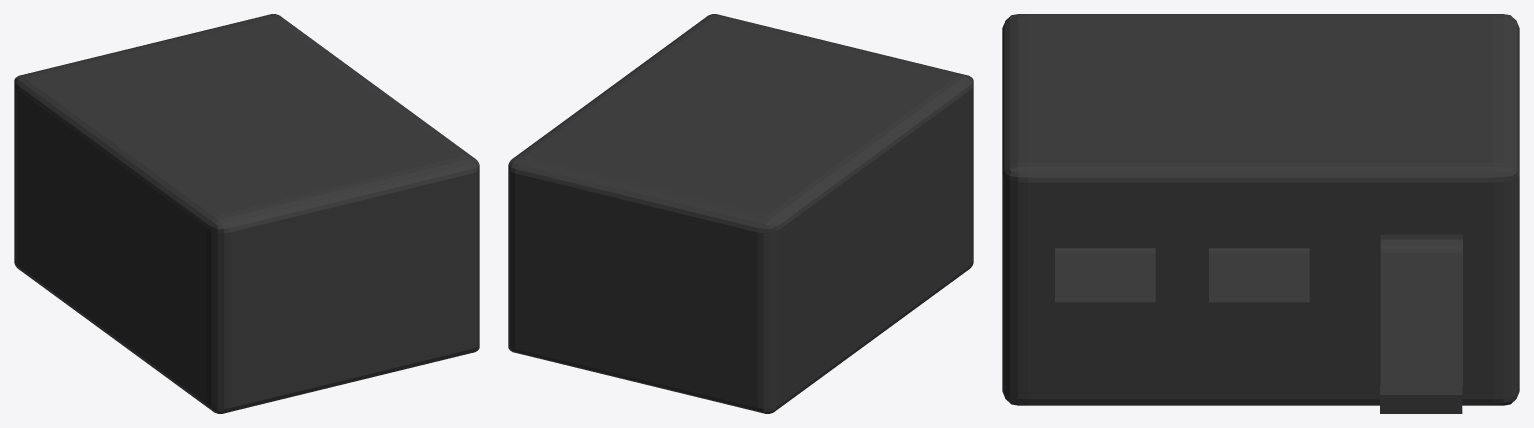
File: BunkerFull.fbx
The picture shows the model from 3 angles, left to right: view 1: azimuth 30°, elevation 25°; view 2: azimuth 150°, elevation 25°; view 3: azimuth 270°, elevation 25°; orthographic projection. The views are drawn at different scales.
Visible parts, largest first — view 1: Cube_001; view 2: Cube_001; view 3: Cube_001.
Boxes of the visible parts, x1,y1,x2,y2 form: Cube_001: (14,14,479,413); Cube_001: (508,14,973,413); Cube_001: (1002,14,1519,413).
Size of the model in its own units: 9.91 by 6.47 by 12.6.
